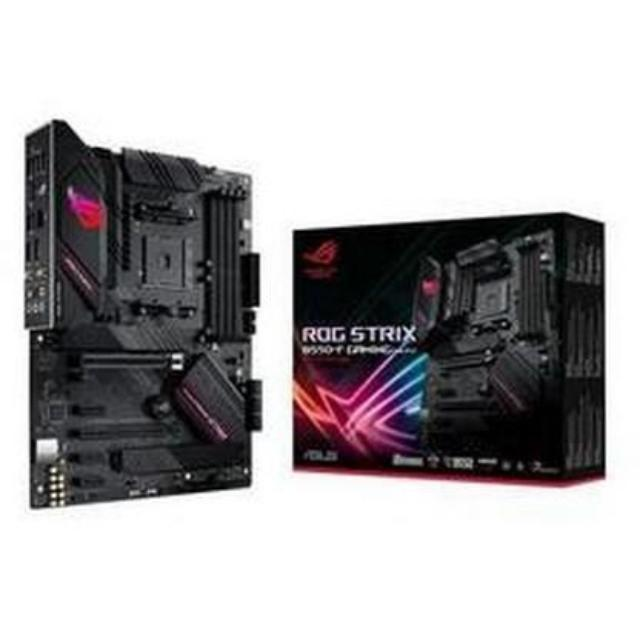Mainboard: (21, 119, 258, 512)
